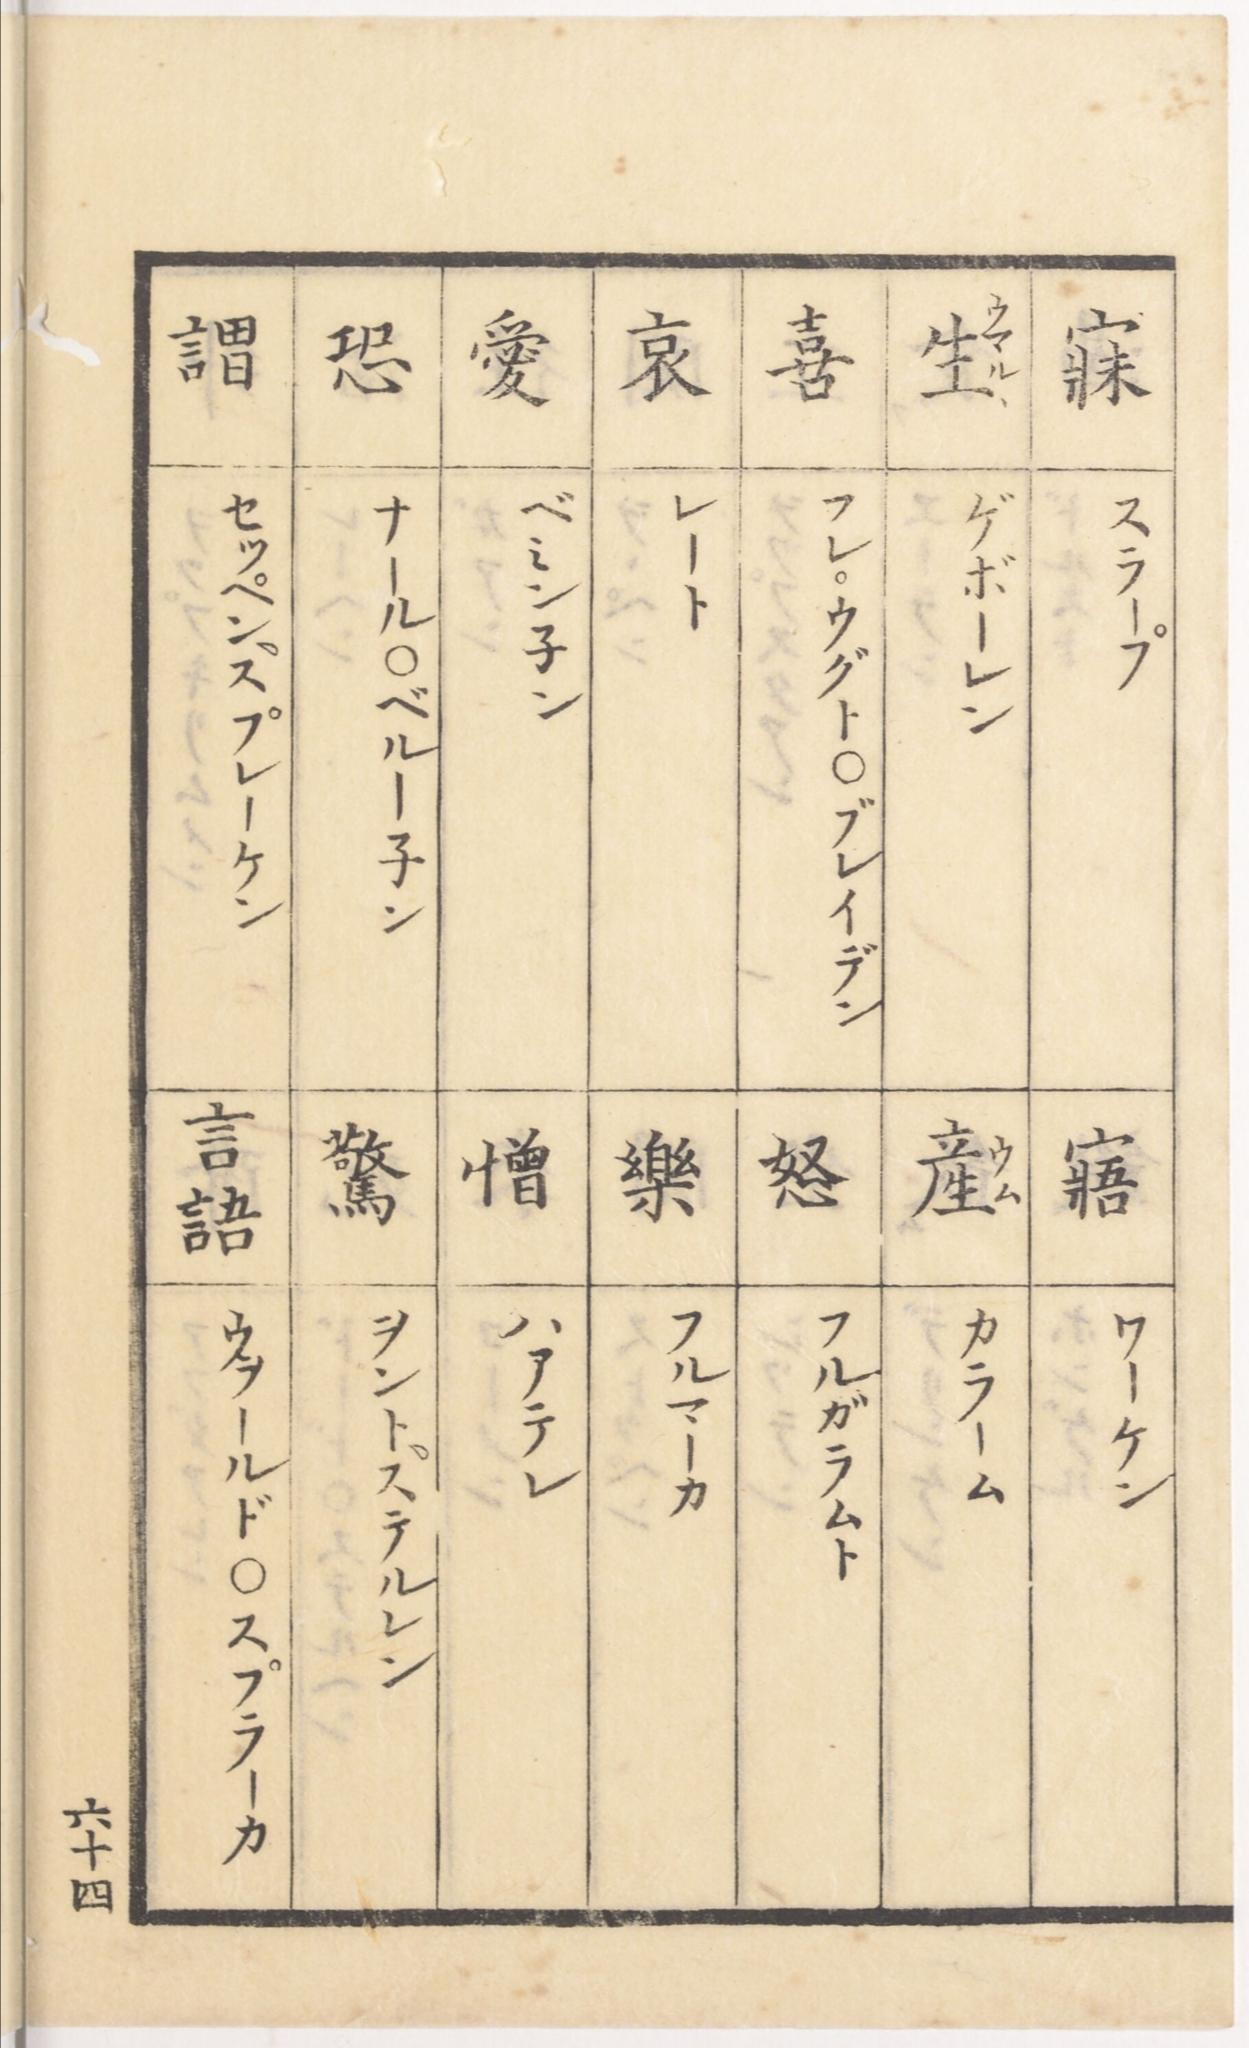MainZone-Character: (908, 284, 1028, 418), (901, 1118, 1022, 1232)
MainZone-Ruby: (983, 288, 1022, 395), (984, 1126, 1025, 1207)
